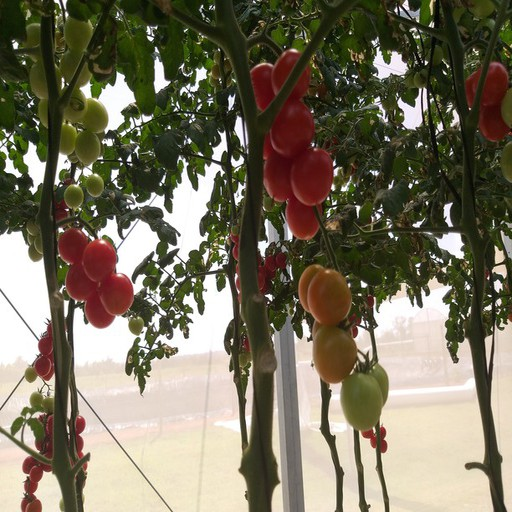green tomato bunch: (26, 15, 108, 208), (27, 219, 57, 261), (209, 47, 233, 89)
mixed tomato bunch: (301, 266, 391, 435)
red tomato bunch: (248, 50, 333, 238), (58, 229, 137, 324), (23, 416, 89, 512), (226, 229, 287, 305), (464, 61, 512, 146), (345, 292, 374, 339)
